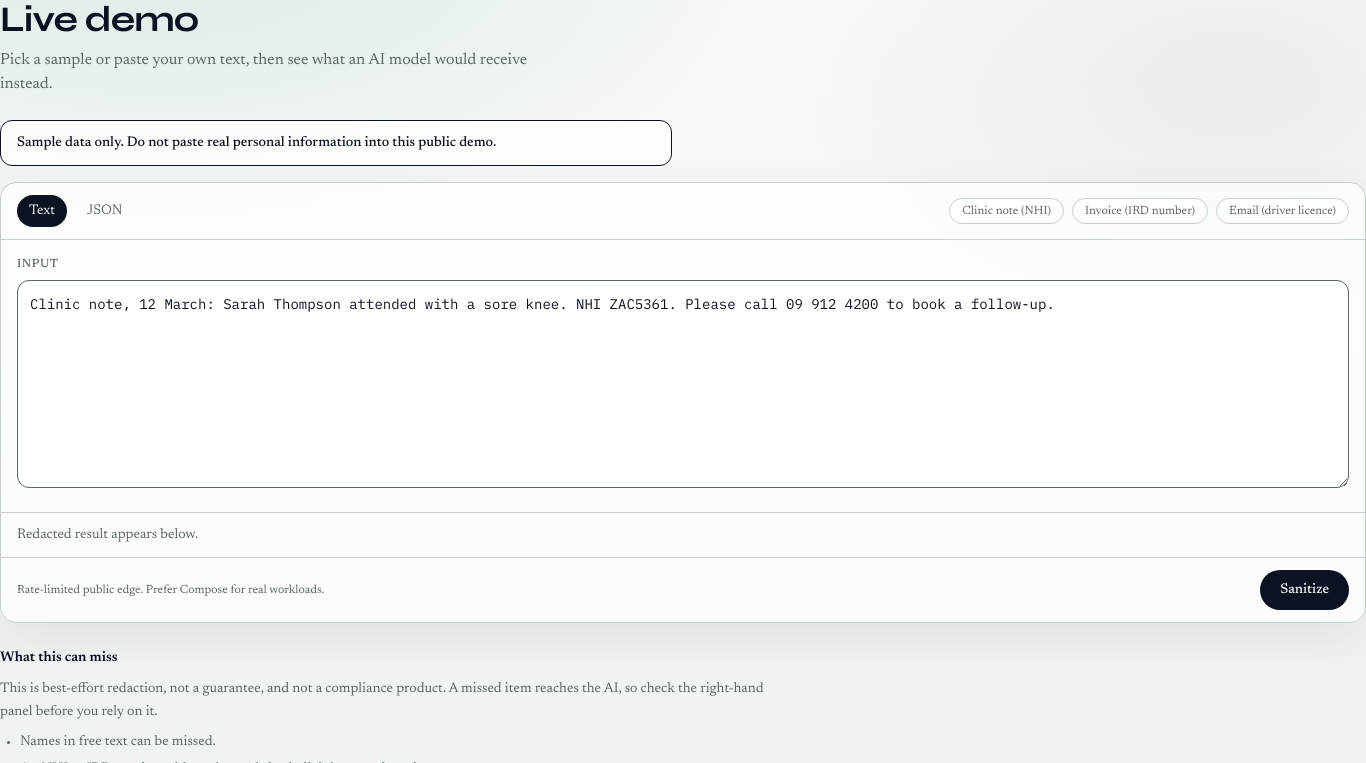
Scenario: Playground › offers the self-host link when the demo is offline
The width and height of the screenshot is (1366, 763).
Click the button "Sanitize". click: (1305, 590)
box: [1260,570,1349,610]
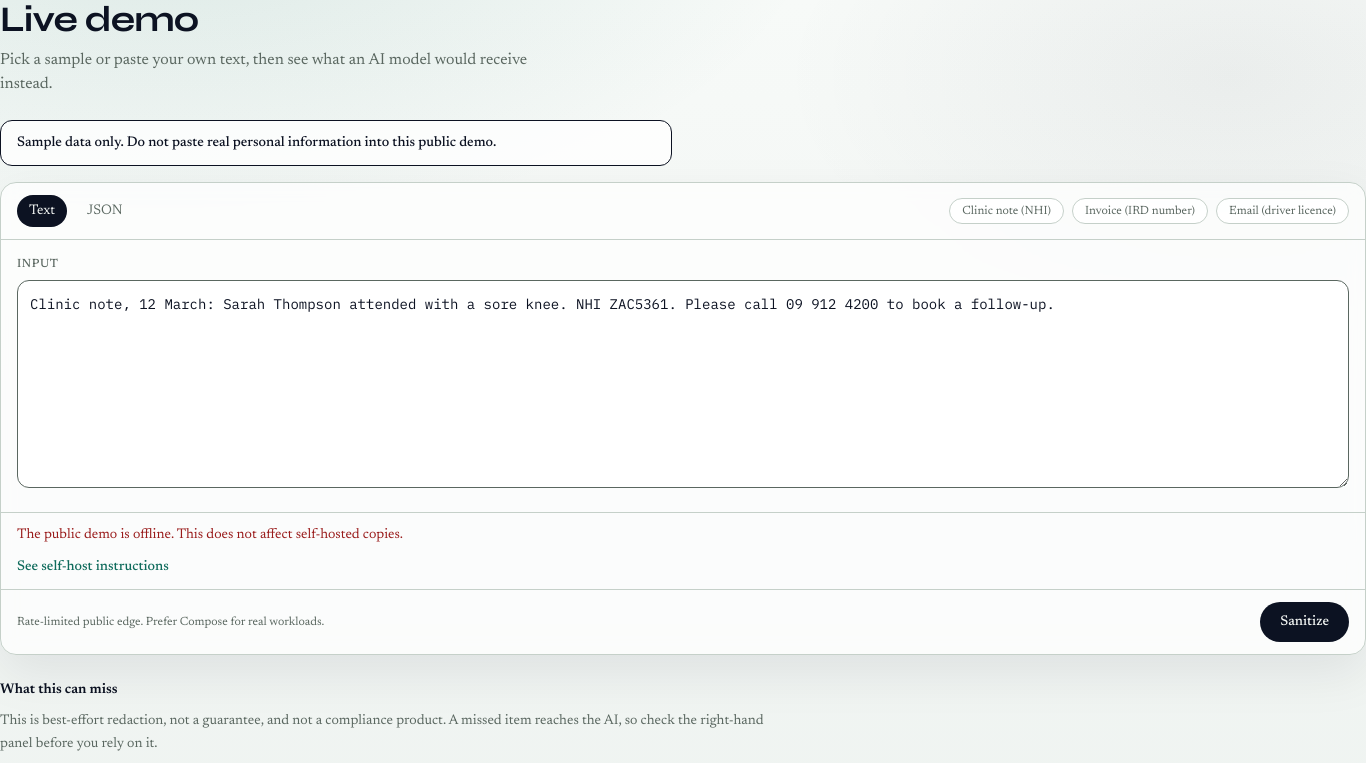
Now the message shows "demo is offline", box [17,528,403,542]
Now the link "See self-host instructions" is shown, box [17,557,169,577]
